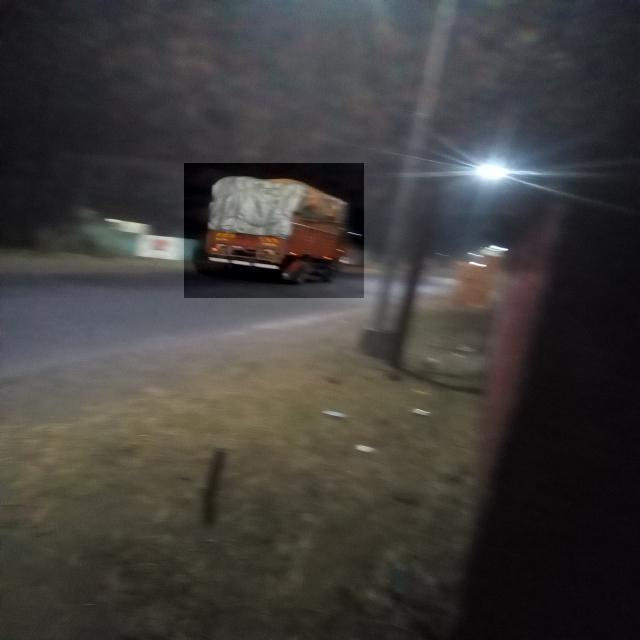Truck: (184, 163, 364, 298)
